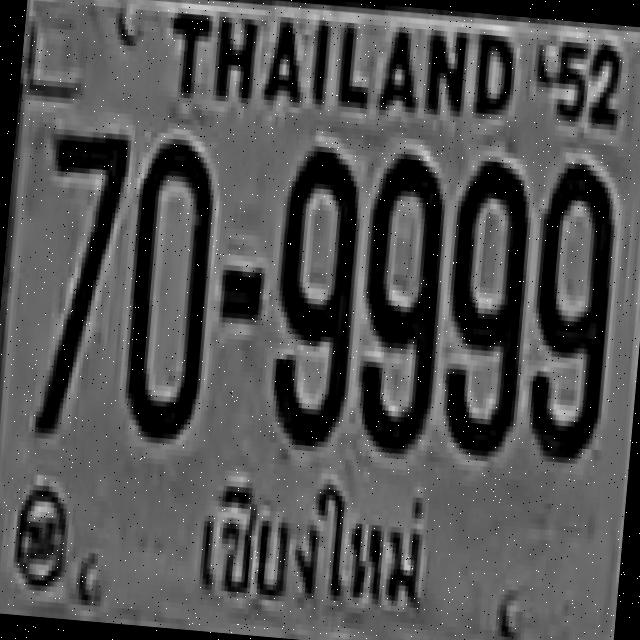0: (116, 133, 219, 443)
7: (28, 126, 128, 440)
9: (520, 156, 624, 467), (349, 146, 452, 458), (261, 141, 365, 446), (434, 154, 536, 458)
ChiangMai: (183, 462, 444, 630)
